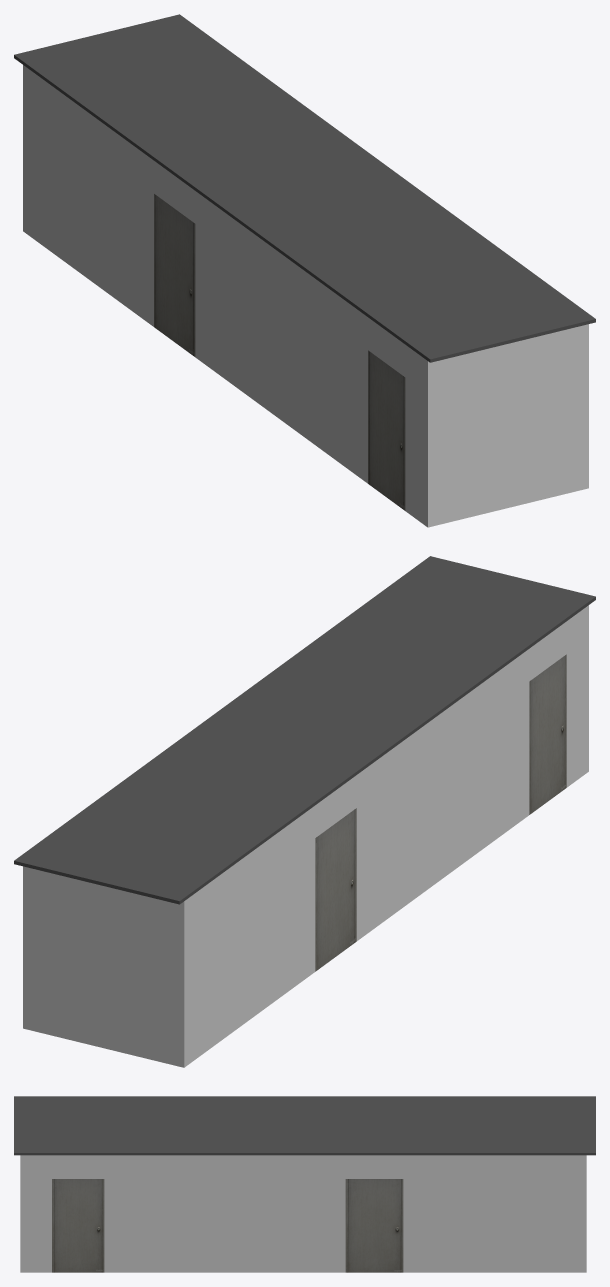
File: nha2.fbx
3 views of the same model, one above another, from view 1: azimuth 30°, elevation 25°; view 2: azimuth 150°, elevation 25°; view 3: azimuth 270°, elevation 25° (orthographic). The views are drawn at different scales.
Parts seen in each view (by area): view 1: Cube; view 2: Cube; view 3: Cube.
Boxes of the visible parts, bbox=[...] form: Cube: bbox=[14, 14, 595, 527]; Cube: bbox=[14, 556, 595, 1067]; Cube: bbox=[14, 1096, 595, 1272].
Bounding box in the file's own units: 611 × 606 × 2658.
Materials: 3 (1 with a texture image).
